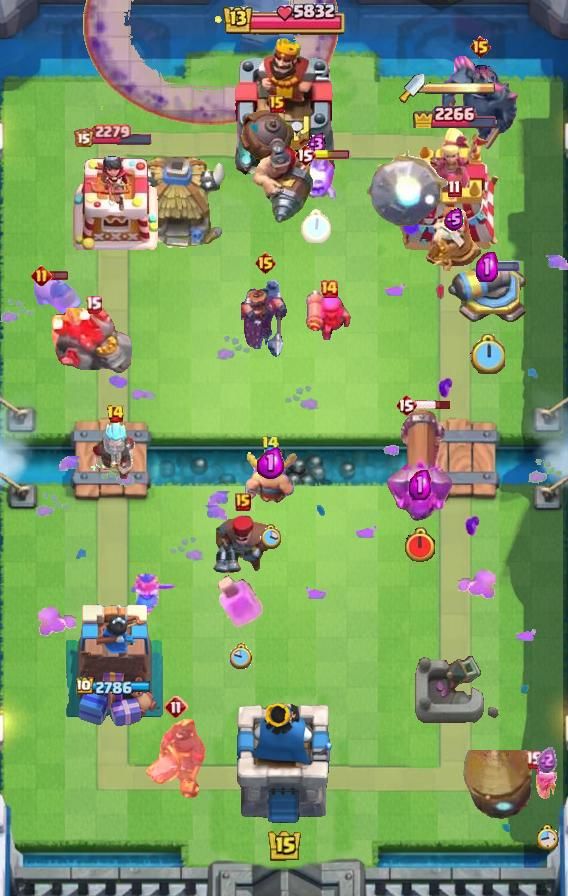bar: (394, 126, 512, 256)
cannoneer-tower: (52, 308, 134, 402)
clock: (221, 0, 347, 40)
electro-spirit: (256, 447, 283, 479), (476, 252, 498, 282), (409, 470, 431, 500), (537, 747, 557, 773), (307, 132, 327, 156), (444, 209, 464, 232)
elixir: (470, 334, 506, 374), (403, 527, 437, 565), (301, 209, 333, 246), (230, 643, 253, 669), (537, 824, 560, 850), (259, 524, 280, 550)
elixir-collector: (424, 201, 484, 271)
elixir-golem-big: (241, 268, 289, 358)
emote: (416, 399, 453, 411), (483, 261, 521, 271), (314, 150, 350, 160), (51, 271, 70, 282)
executioner: (32, 271, 82, 317)
freeze: (144, 715, 208, 801)
furnace: (386, 406, 454, 526)
goblin: (533, 765, 561, 801)
goblin-giant: (242, 452, 298, 506)
golemite: (438, 53, 522, 151)
hog-rider: (129, 572, 177, 626)
king-tower: (228, 35, 340, 181), (235, 703, 333, 826)
king-tower-bar: (425, 81, 495, 95)
knight-evolution: (218, 575, 264, 629)
mirror: (296, 152, 338, 202)
mortar: (87, 417, 143, 479)
phoenix-small: (210, 513, 276, 575)
prince: (126, 157, 228, 253)
queen-tower: (61, 599, 166, 731), (67, 152, 161, 256)
rocket: (83, 0, 339, 126)
royal-recruit: (446, 262, 528, 332)
selected: (411, 99, 498, 128), (74, 123, 154, 147), (75, 677, 152, 697)
text: (164, 695, 188, 719), (468, 35, 491, 59), (255, 251, 278, 275), (294, 143, 316, 167), (395, 393, 417, 417), (32, 266, 53, 287), (319, 279, 339, 299), (106, 404, 125, 424), (260, 435, 280, 454), (85, 295, 103, 314), (525, 750, 543, 769), (269, 95, 285, 113), (235, 493, 251, 511), (447, 178, 462, 197)
tombstone: (305, 290, 353, 340)
wizard: (239, 108, 315, 226)
x-bow: (367, 148, 450, 228), (461, 750, 539, 828)
